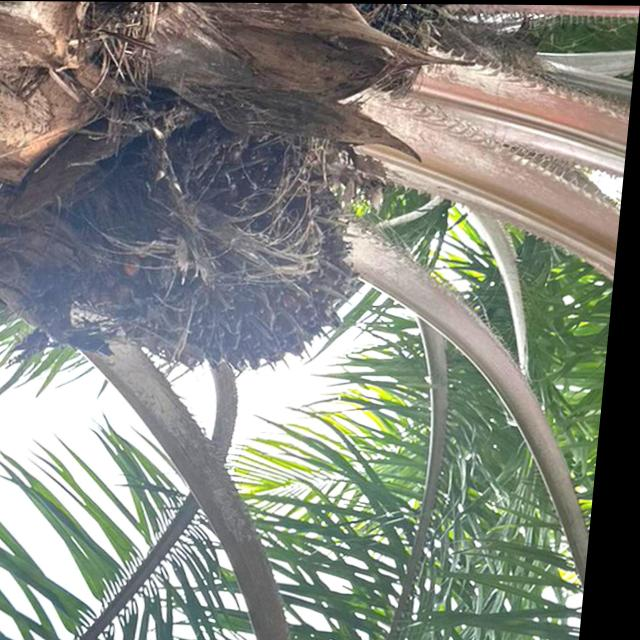ripe: (49, 118, 396, 390)
